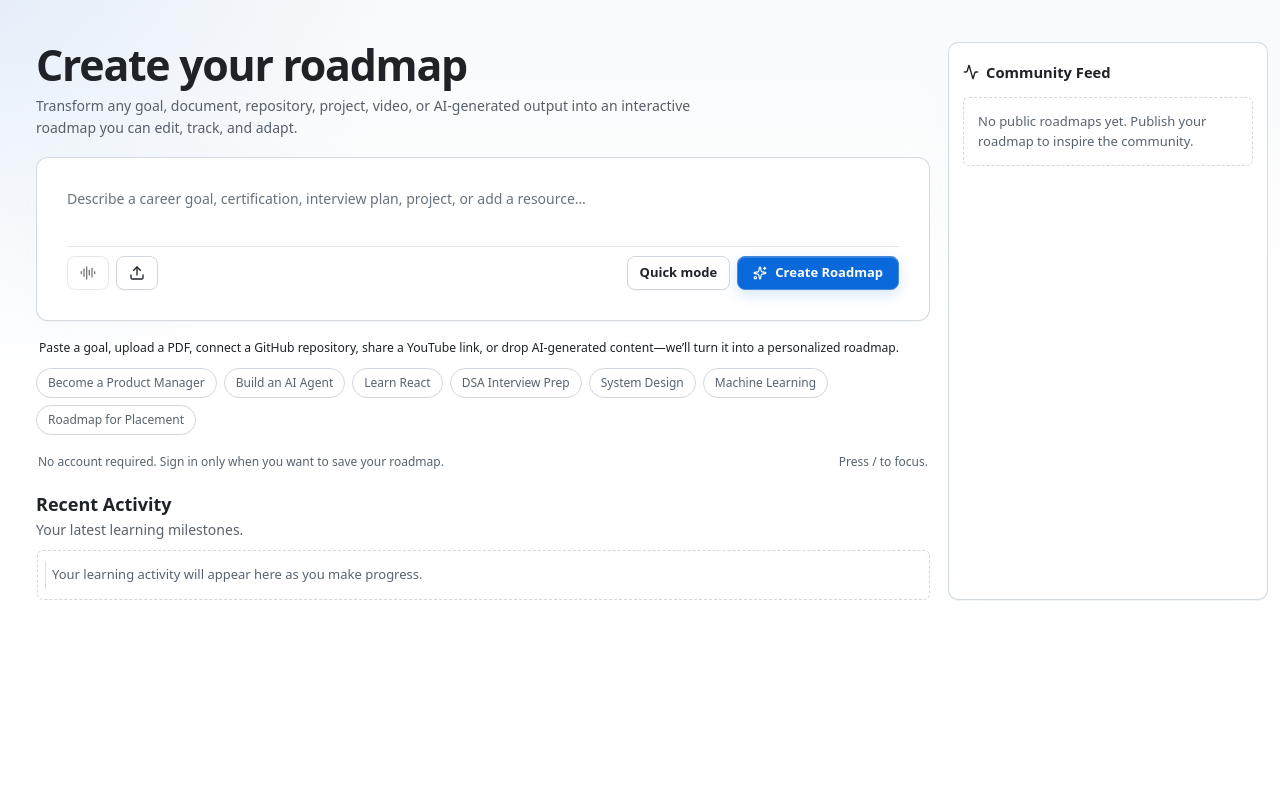
Test: Home roadmap generation flow › keeps the generation screen open with a clear message when AI credits are exhausted
The image size is (1280, 800).
Type "Learn full-stack development" into the text box named "Describe your learning goal" at (483, 212), box [67, 188, 899, 236]
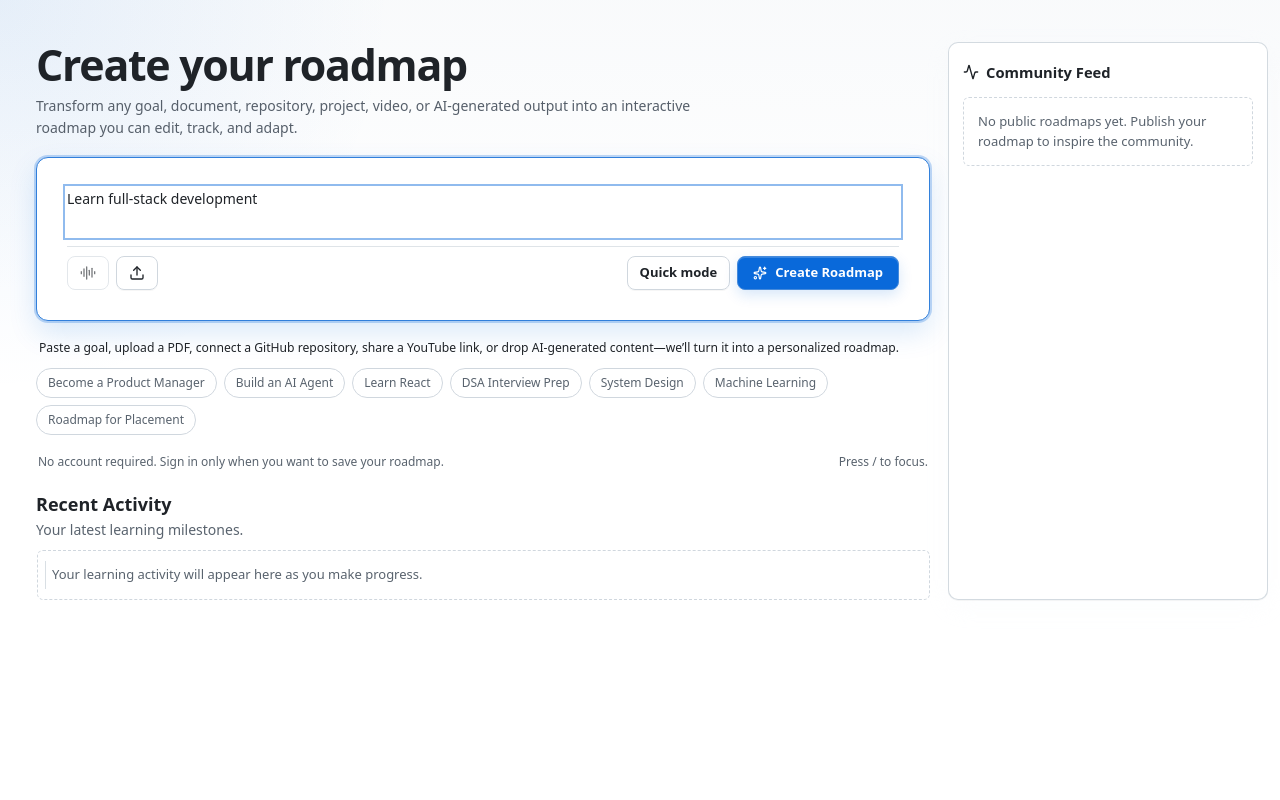
Click the button with aria-label "Generate roadmap" at (818, 273), box [737, 256, 899, 290]
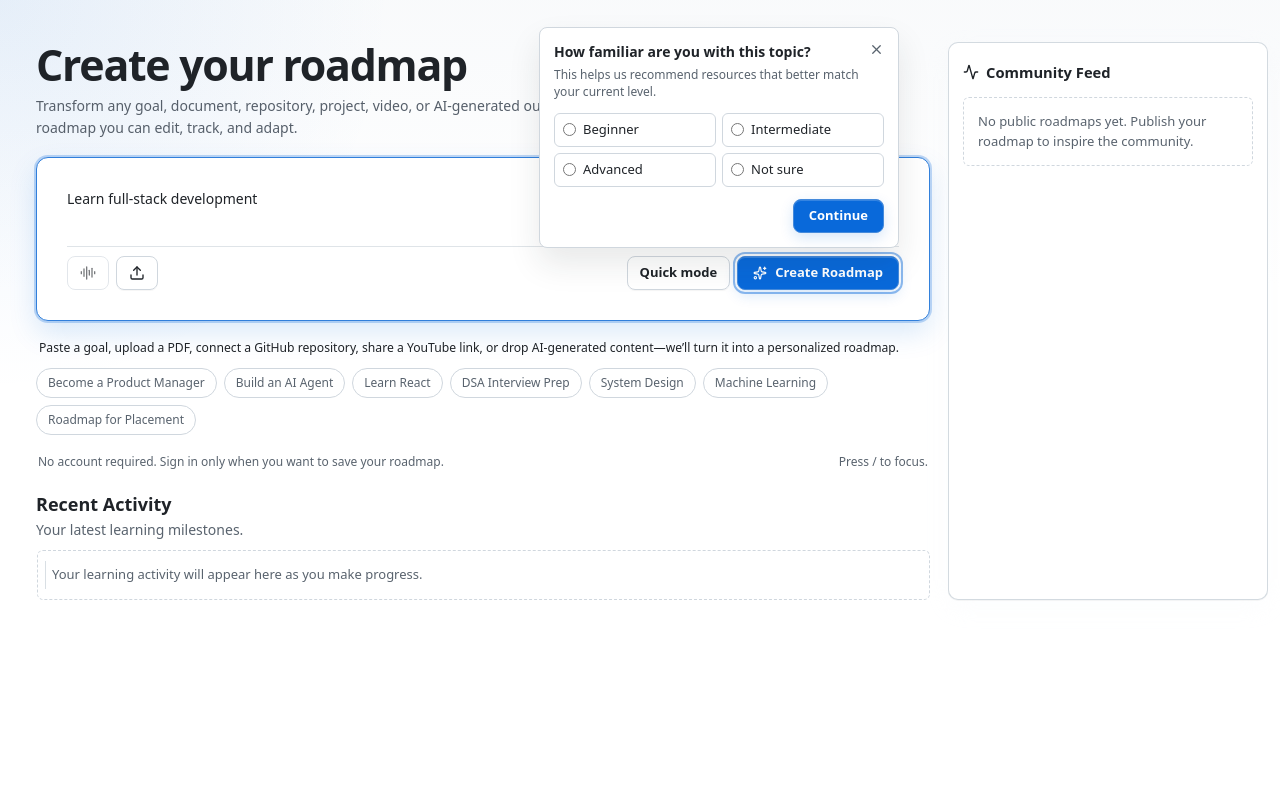
Click the button "Continue" at (838, 216), box [793, 199, 884, 233]
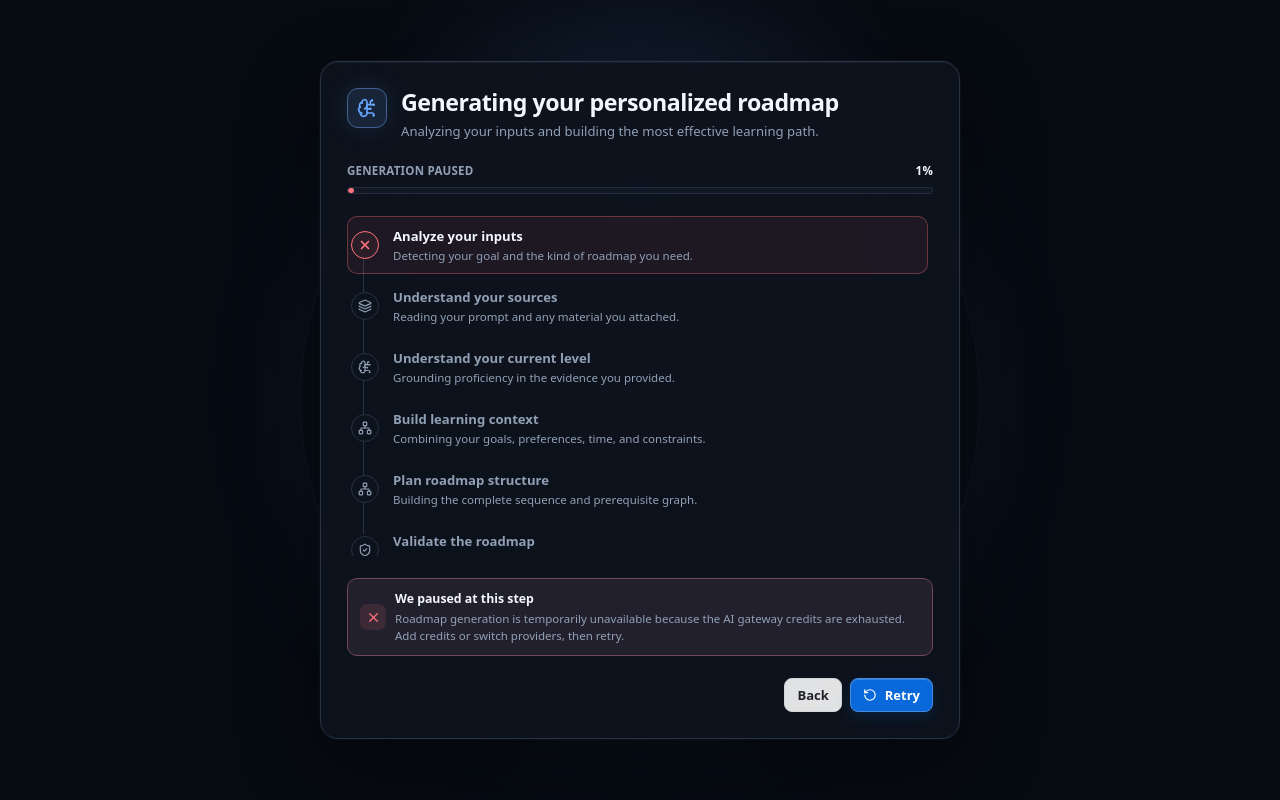
expect the heading "Generating your personalized roadmap" is shown: met, box [401, 88, 839, 116]
expect the text "We paused at this step" is shown: met, box [395, 590, 534, 607]
expect the text "Roadmap generation is temporarily unavailable because the AI gateway credits are exhausted. Add credits or switch provid" is shown: met, box [395, 611, 905, 643]
